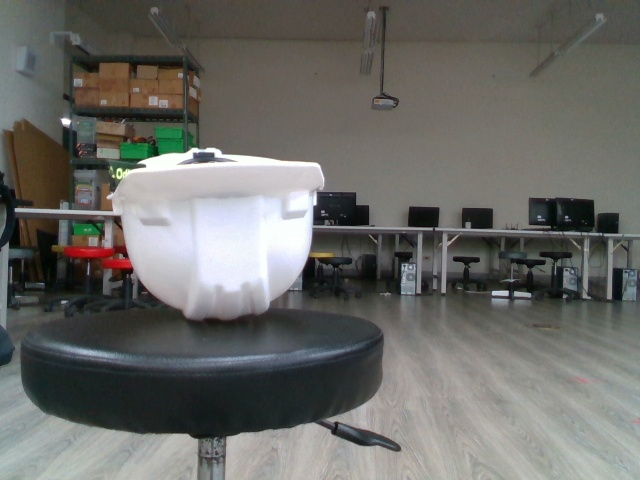helmet: (105, 146, 325, 322)
